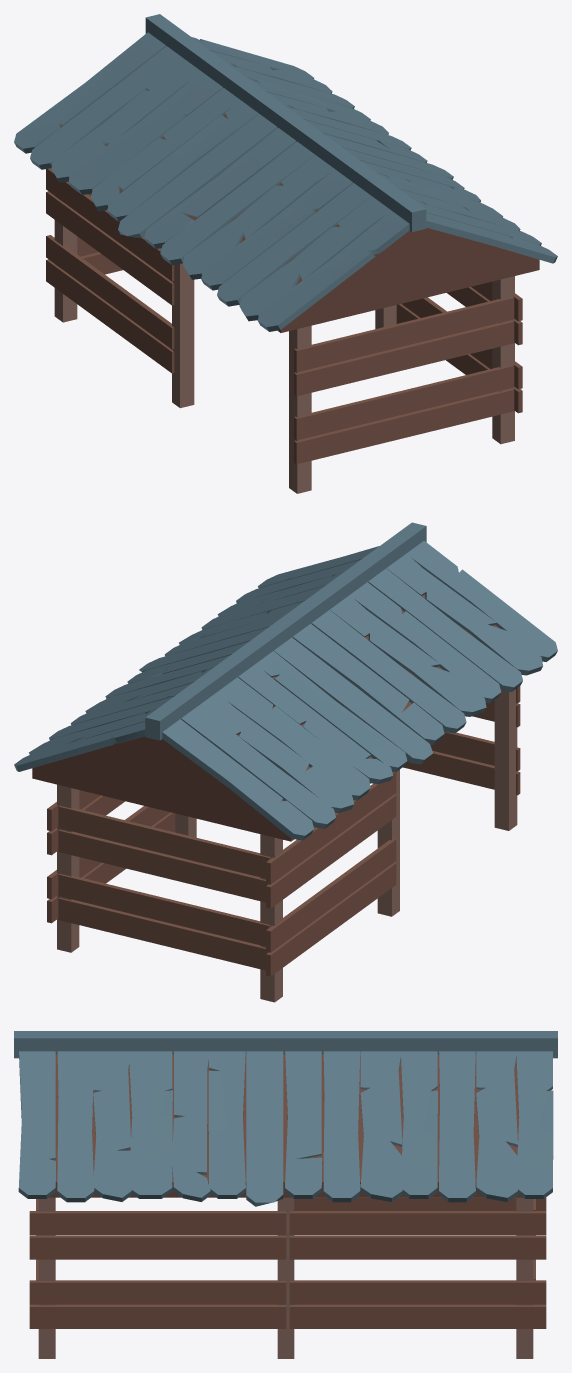
File: Building_018.glb
3 views of the same model, one above another, from view 1: azimuth 30°, elevation 25°; view 2: azimuth 150°, elevation 25°; view 3: azimuth 270°, elevation 25° (orthographic). The views are drawn at different scales.
Visible parts, largest first — view 1: Building_018; view 2: Building_018; view 3: Building_018.
Part boxes in pixels (<box>): Building_018: <box>14,14,557,493</box>; Building_018: <box>14,522,557,1002</box>; Building_018: <box>14,1031,557,1358</box>.
Size of the model in its own units: 10.57 by 8.75 by 15.94.
1 material, 1 textured.
